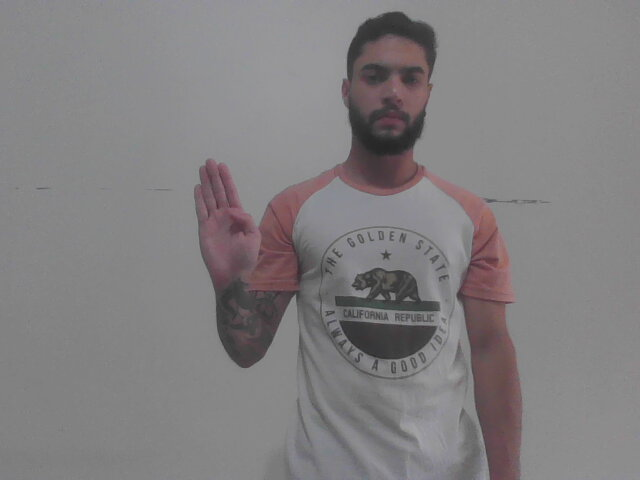b: (184, 154, 262, 286)
